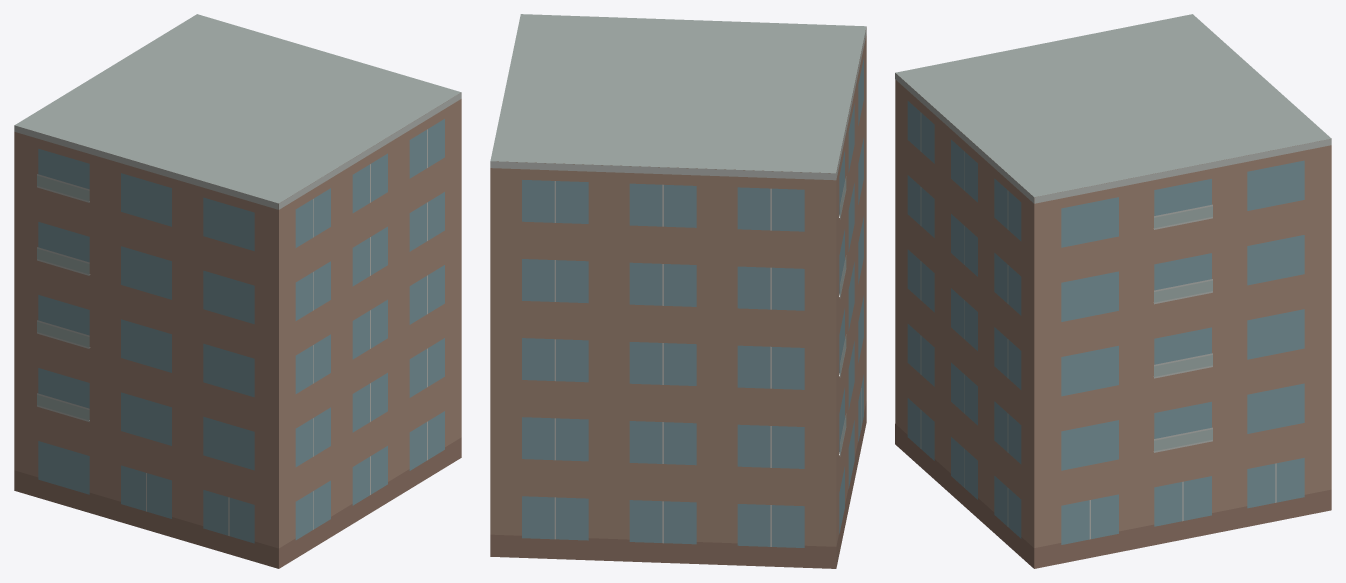
Rendered from survey-upis-32732581.glb.
3 renders of one model, left to right at view 1: azimuth 30°, elevation 25°; view 2: azimuth 150°, elevation 25°; view 3: azimuth 270°, elevation 25°, orthographic. The views are drawn at different scales.
Parts seen in each view (by area): view 1: survey-upis-32732581.tmp; view 2: survey-upis-32732581.tmp; view 3: survey-upis-32732581.tmp.
Part boxes in pixels (x1,y1,x2,y2): survey-upis-32732581.tmp: [14, 14, 461, 568]; survey-upis-32732581.tmp: [490, 14, 866, 568]; survey-upis-32732581.tmp: [895, 14, 1331, 568].
Bounding box in the file's own units: 14.71 × 13.9 × 14.81.
